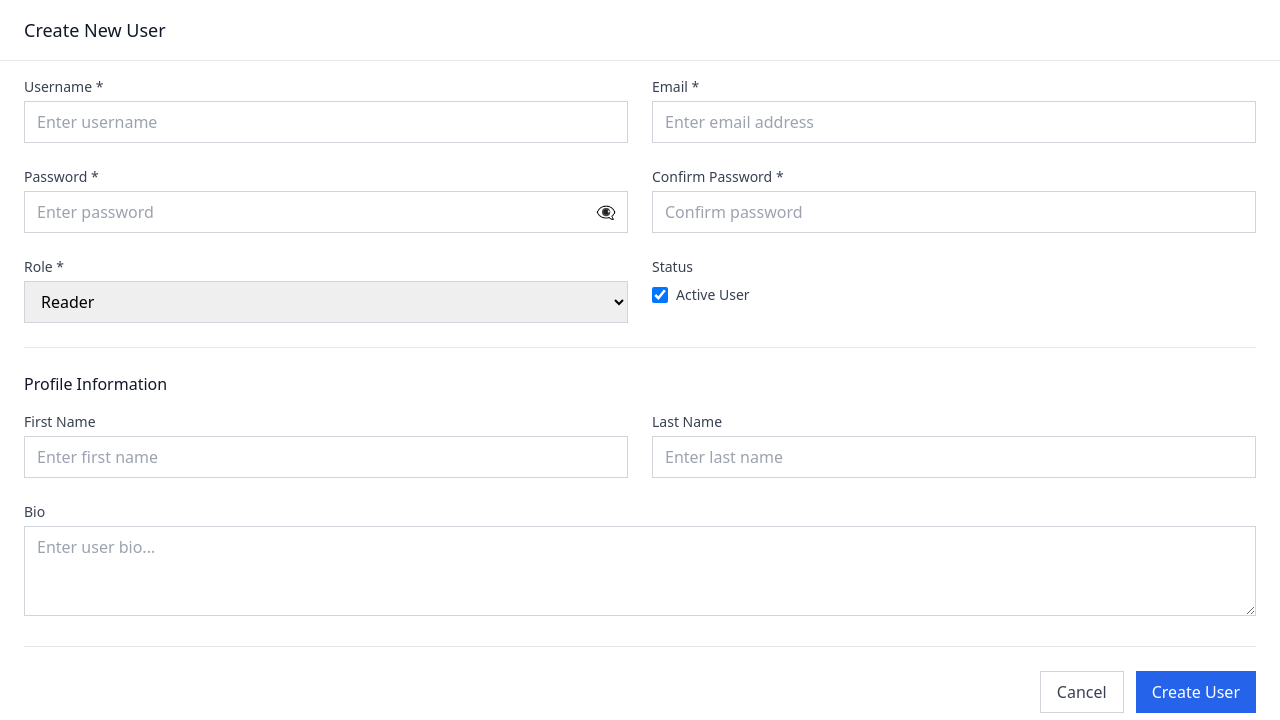
it: UserForm › Error Handling › should display API errors
The image size is (1280, 720).
// Fill and submit form
Type "testuser" into the field with placeholder "Enter username".
click(326, 122); type("testuser")  # box top-left (24, 101), bottom-right (628, 143)
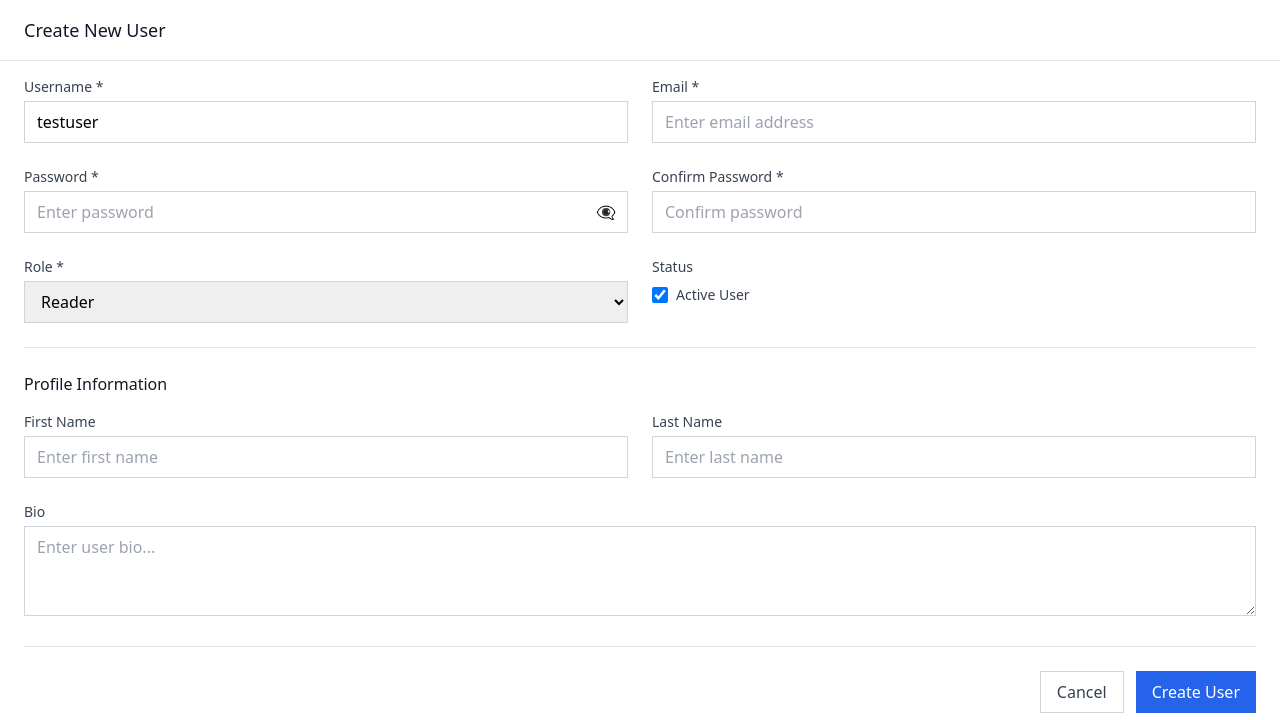
Type "test@test.com" into the field with placeholder "Enter email address".
click(954, 122); type("test@test.com")  # box top-left (652, 101), bottom-right (1256, 143)
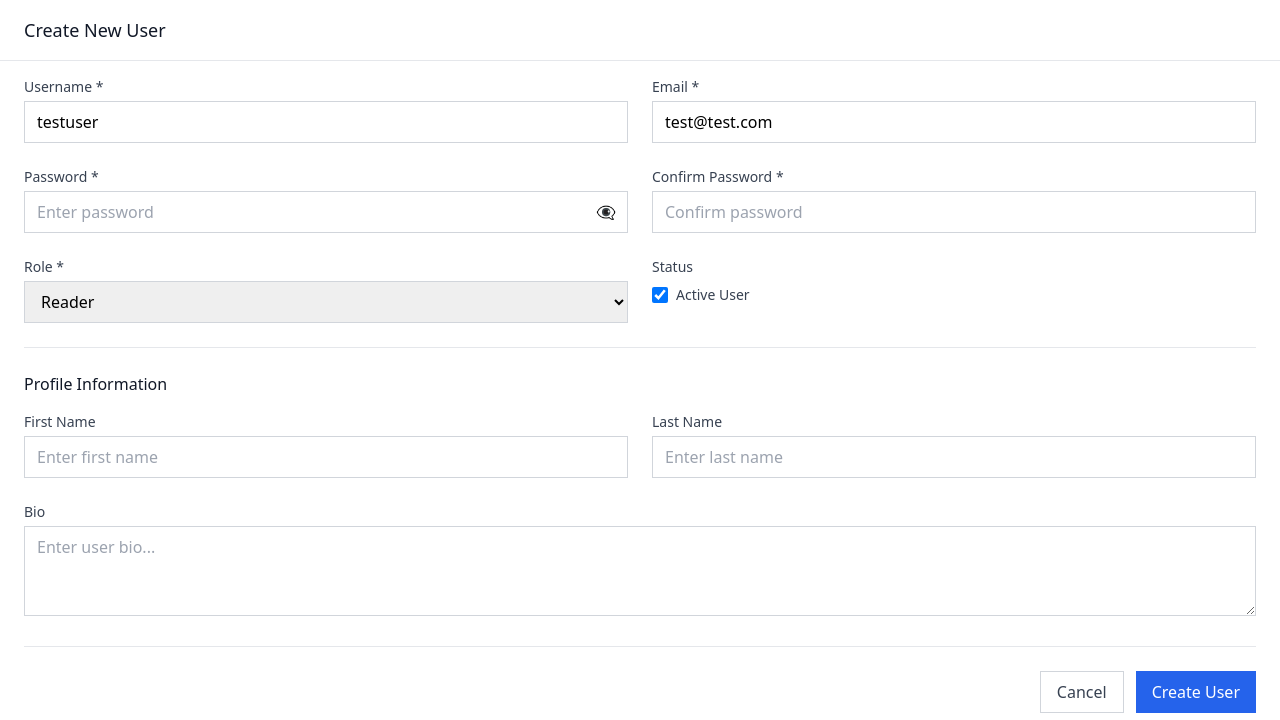
Type "password123" into the password field with placeholder "Enter password".
click(326, 212); type("password123")  # box top-left (24, 191), bottom-right (628, 233)
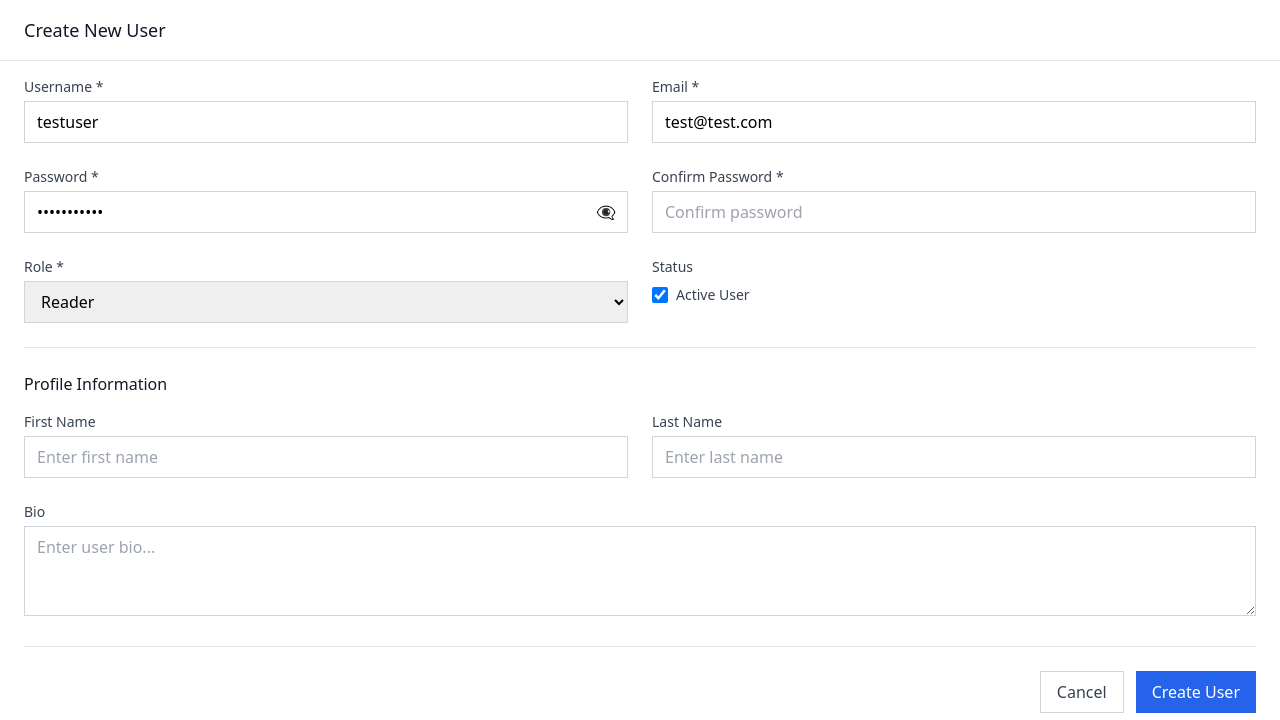
Type "password123" into the password field with placeholder "Confirm Password".
click(954, 212); type("password123")  # box top-left (652, 191), bottom-right (1256, 233)
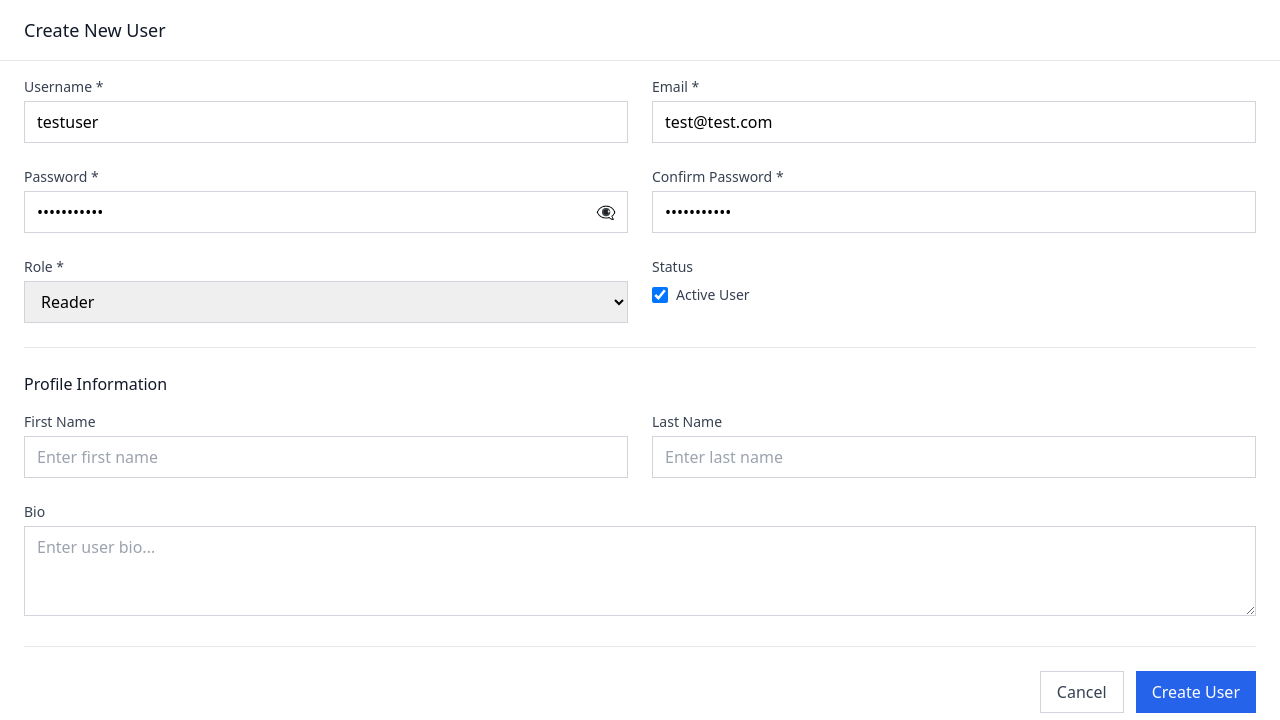
Click the button "Create User".
click(1196, 692)  # box top-left (1136, 671), bottom-right (1256, 713)
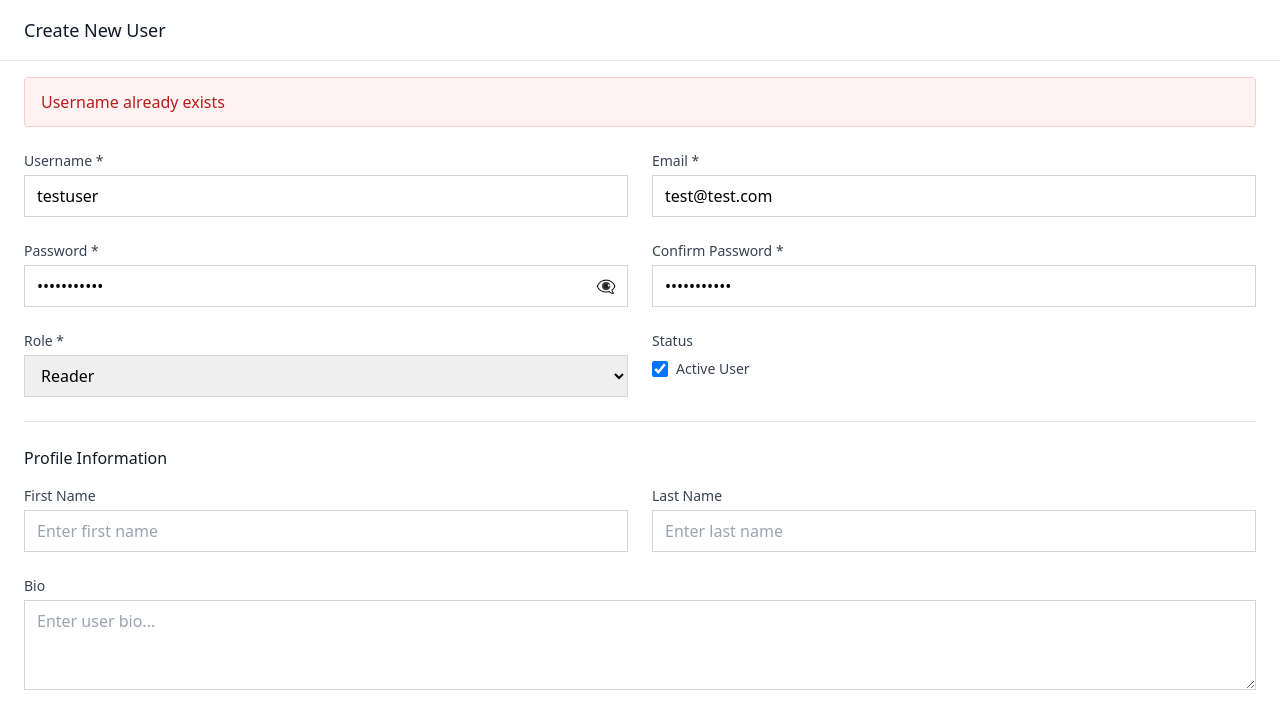
expect the text "Username already exists" is shown: met, box top-left (24, 77), bottom-right (1256, 127)
